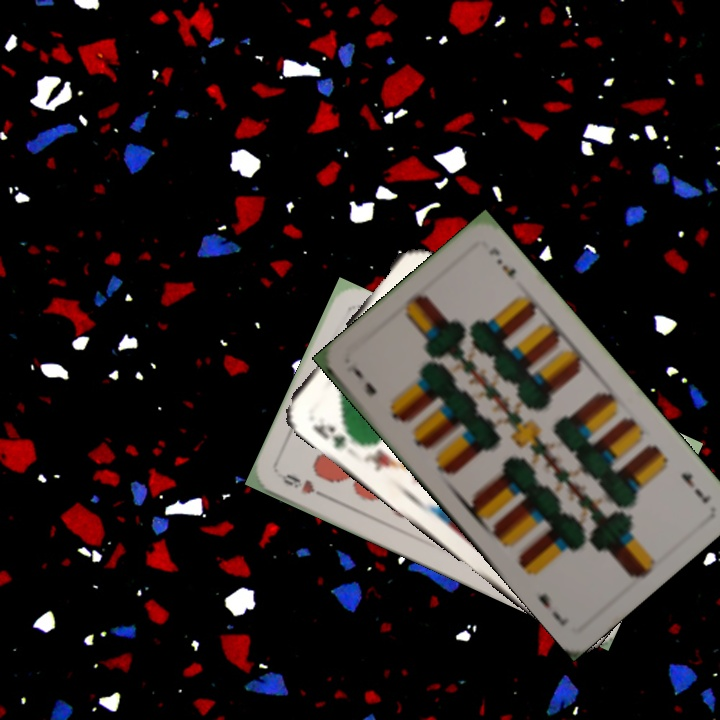E7: (342, 361, 380, 399), (677, 468, 714, 507)
GK: (308, 419, 349, 452)
H9: (275, 469, 331, 502)
